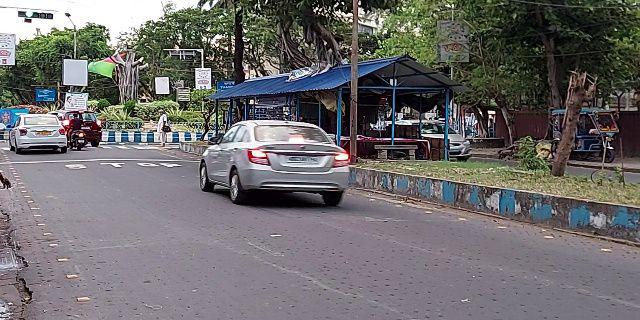Car: (193, 118, 363, 205), (8, 109, 66, 155)
Motorbike: (67, 108, 89, 152)
